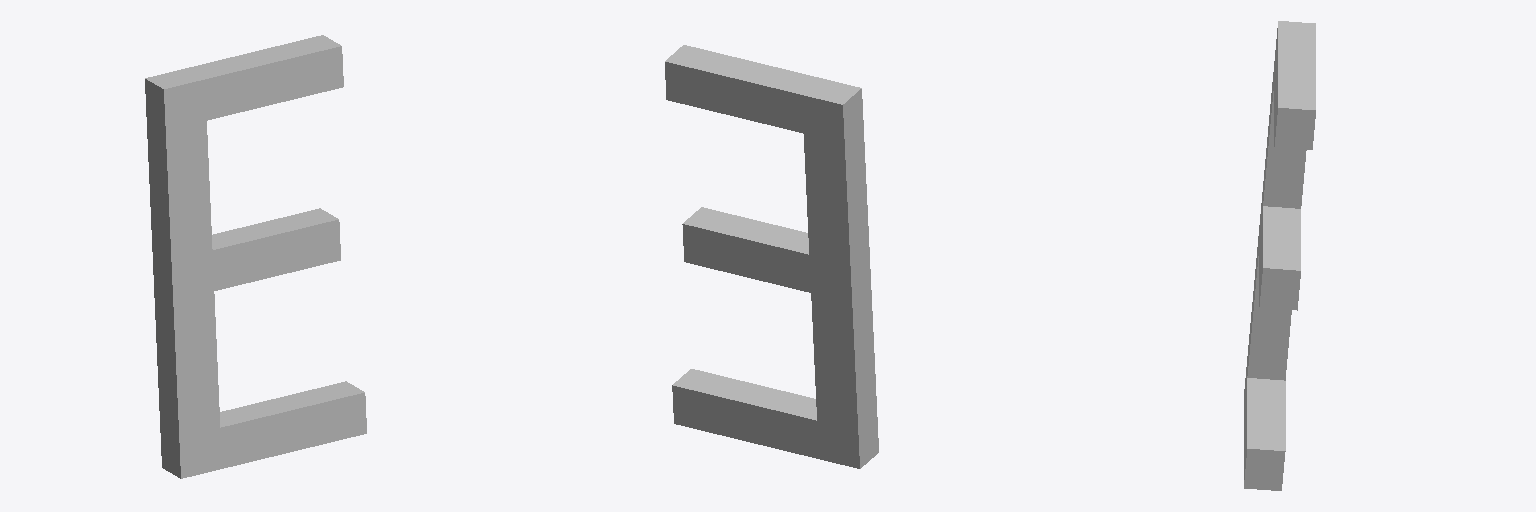
File: original-122.obj
3 views of the same model, side by side, from view 1: azimuth 30°, elevation 25°; view 2: azimuth 150°, elevation 25°; view 3: azimuth 270°, elevation 25° (orthographic).
Visible parts, largest first — view 1: #ID709; view 2: #ID709; view 3: #ID709.
Boxes of the visible parts, box(x1,y1,x2,y2) form: #ID709: box(145, 35, 366, 478); #ID709: box(665, 45, 878, 468); #ID709: box(1244, 21, 1315, 490).
Size of the model in its own units: 0.0045 by 0.0088 by 0.0015.